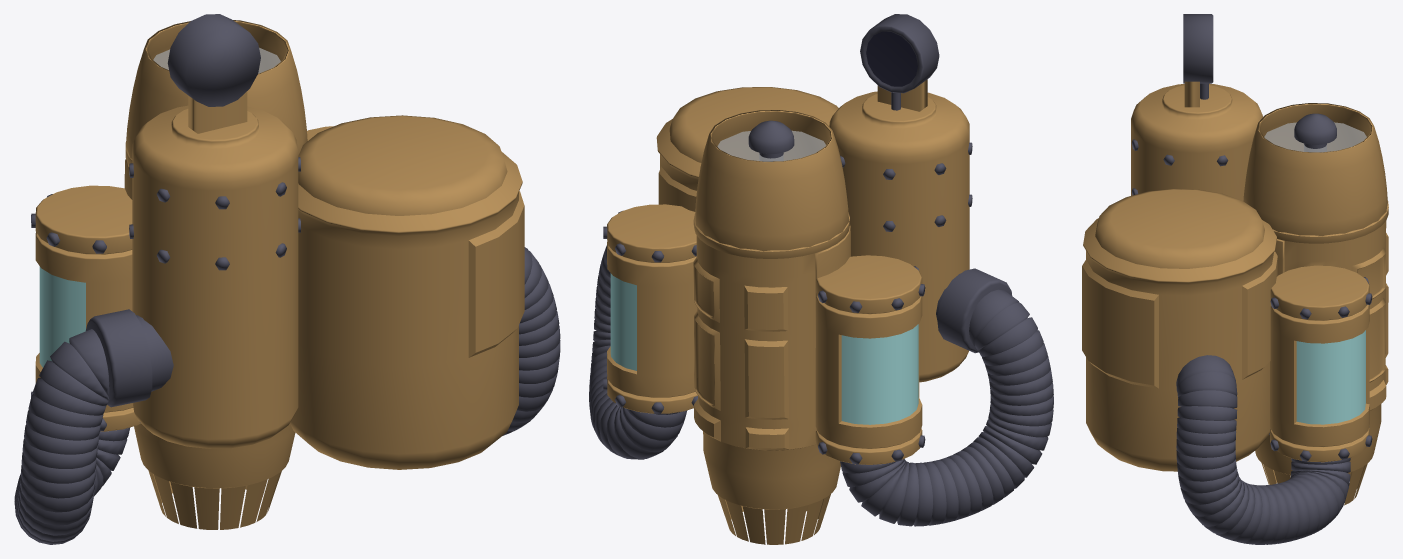
The model's file is Main_Сharacter_Rocket.fbx.
3 renders of one model, left to right at view 1: azimuth 30°, elevation 25°; view 2: azimuth 150°, elevation 25°; view 3: azimuth 270°, elevation 25°, orthographic. The views are drawn at different scales.
Visible parts, largest first — view 1: Rocket; view 2: Rocket; view 3: Rocket.
Boxes of the visible parts, x1,y1,x2,y2 form: Rocket: (14, 14, 560, 544); Rocket: (589, 14, 1053, 544); Rocket: (1082, 14, 1388, 544).
Size of the model in its own units: 58.62 by 59.19 by 36.87.
